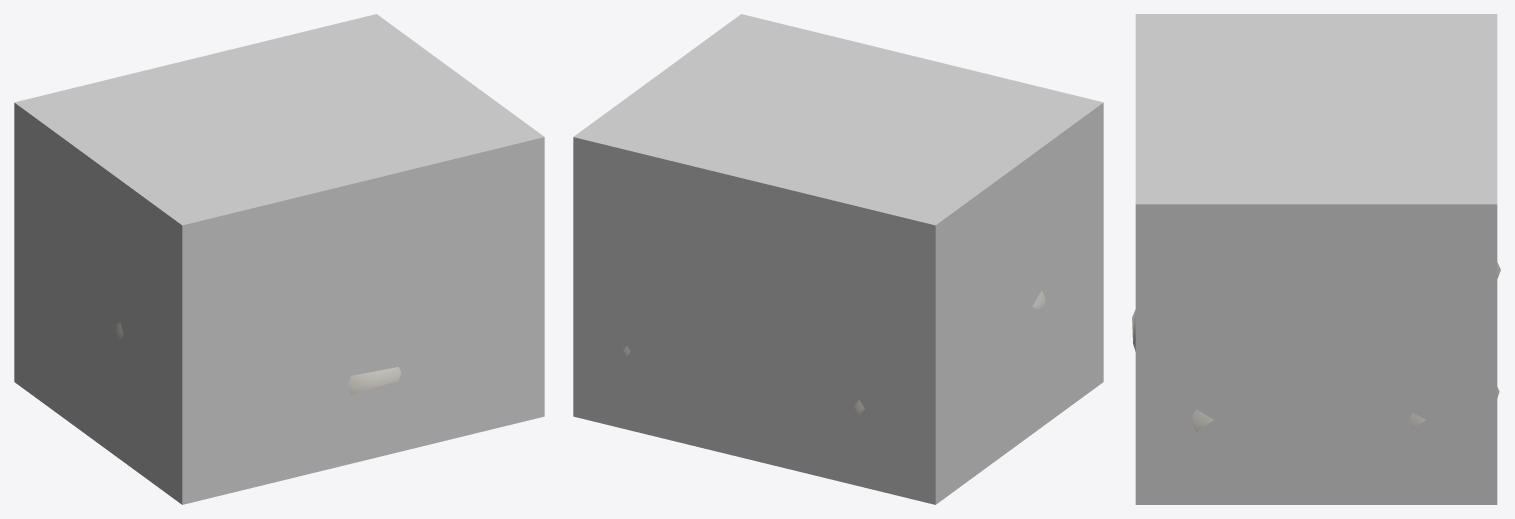
File: FMS_Crate_Basket_Fill_Eggs.fbx
The picture shows the model from 3 angles, left to right: view 1: azimuth 30°, elevation 25°; view 2: azimuth 150°, elevation 25°; view 3: azimuth 270°, elevation 25°; orthographic projection. The views are drawn at different scales.
Parts seen in each view (by area): view 1: Basket_Fill_Eggs_Col, Basket_Fill_Eggs_LOD0; view 2: Basket_Fill_Eggs_Col; view 3: Basket_Fill_Eggs_Col, Basket_Fill_Eggs_LOD0.
Part boxes in pixels (left/top/right/bottom): Basket_Fill_Eggs_Col: left=14, top=14, right=544, bottom=504; Basket_Fill_Eggs_LOD0: left=111, top=322, right=401, bottom=394; Basket_Fill_Eggs_Col: left=573, top=14, right=1103, bottom=504; Basket_Fill_Eggs_Col: left=1135, top=14, right=1497, bottom=504; Basket_Fill_Eggs_LOD0: left=1132, top=262, right=1500, bottom=431.
Size of what is drawn, in the model's own units: 15.92 by 11.5 by 12.79.
